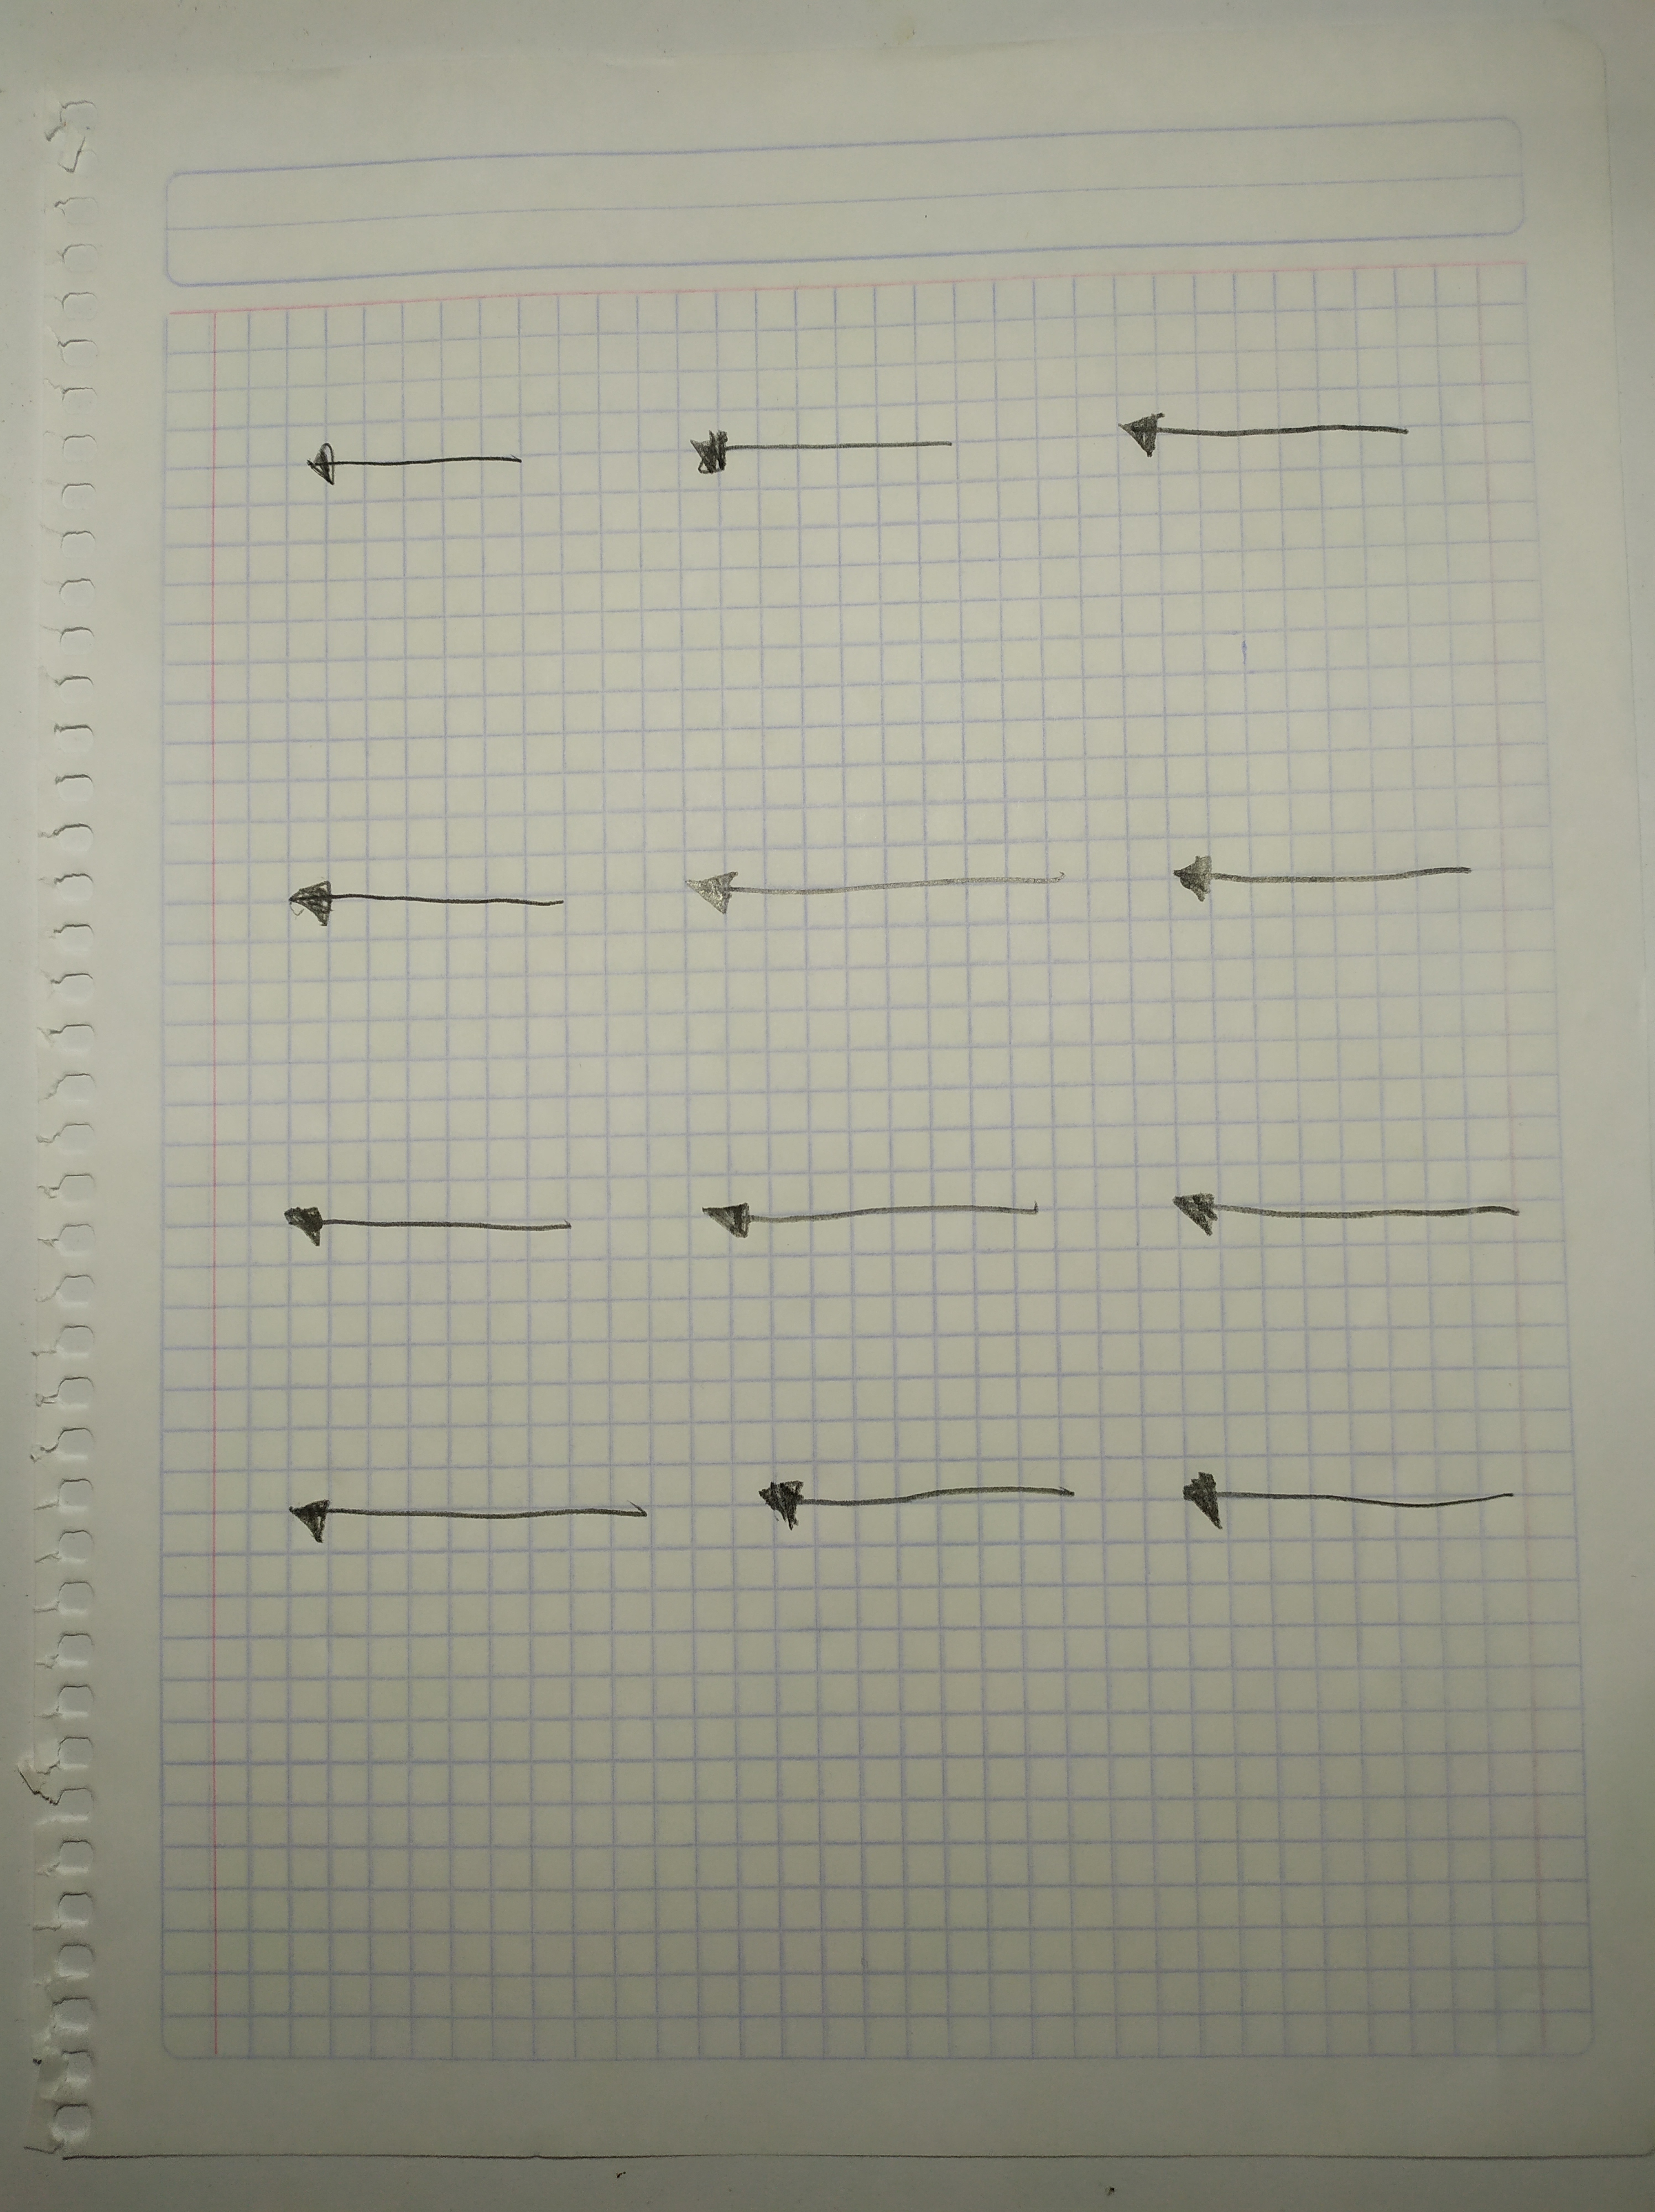arrow_line_left: (256, 1474, 666, 1567), (723, 1465, 1125, 1550), (671, 1173, 1071, 1258), (1140, 1173, 1566, 1253), (1156, 1460, 1551, 1541), (654, 857, 1092, 928), (1088, 394, 1431, 476), (261, 1194, 589, 1274), (1146, 848, 1488, 923), (261, 860, 586, 937), (264, 431, 553, 507), (657, 422, 986, 488)
